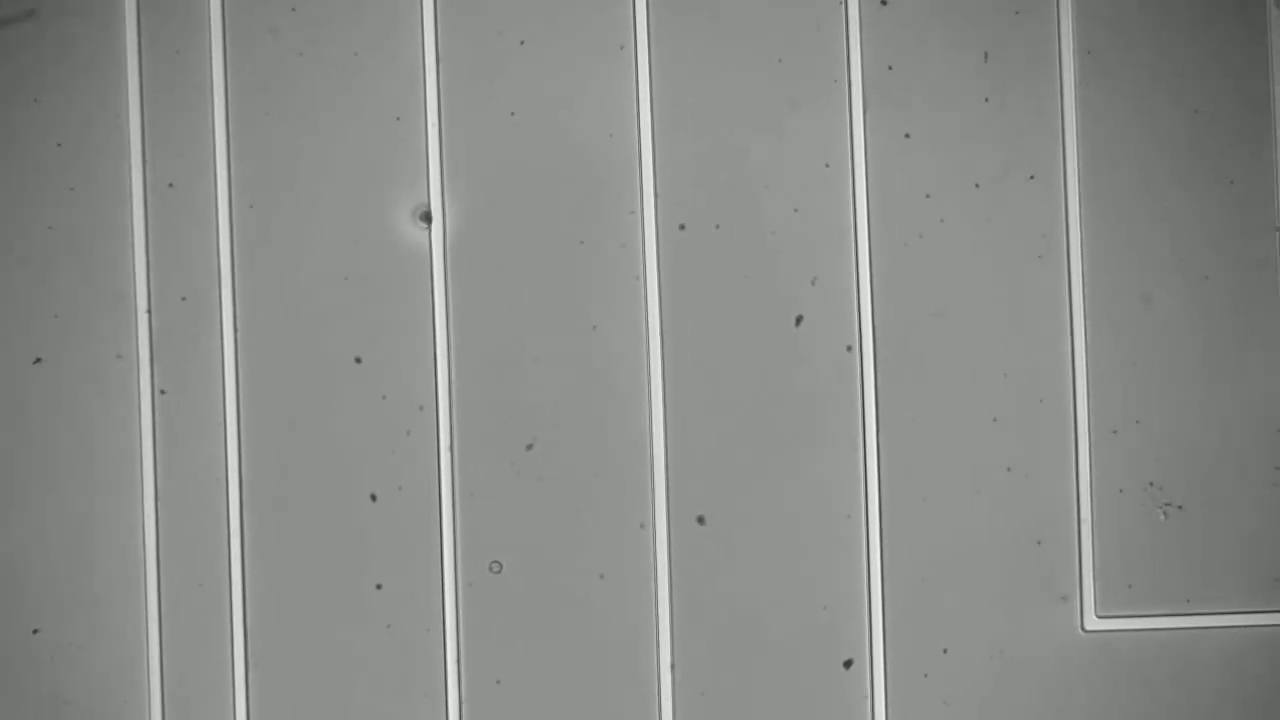stains_enbedded: (405, 194, 448, 229)
